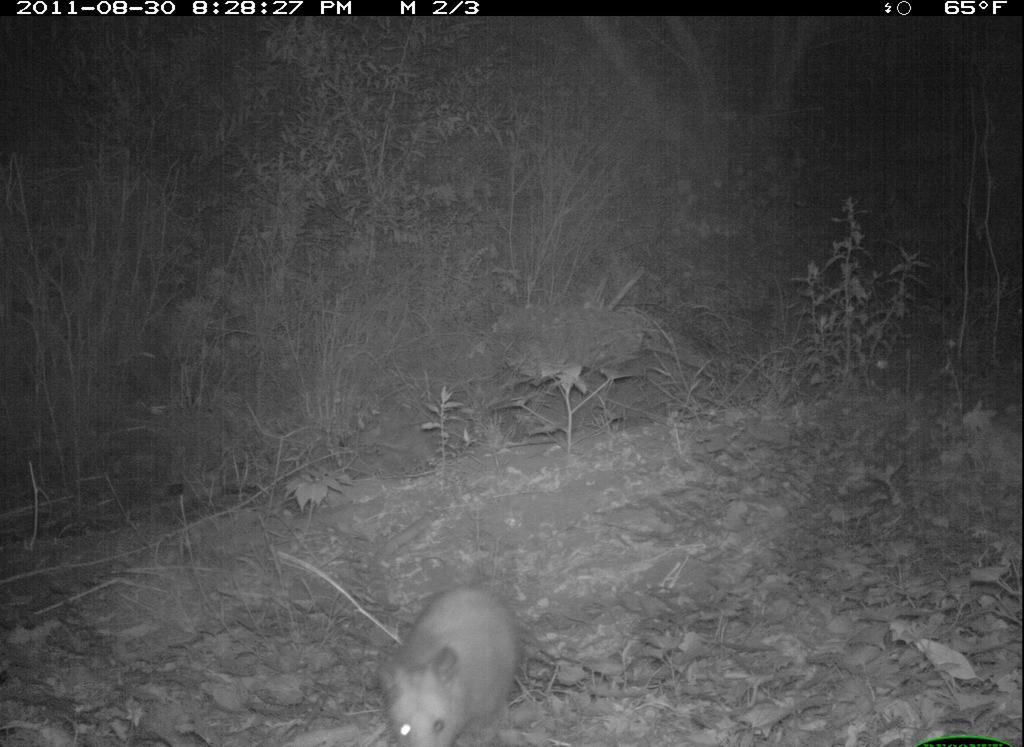opossum: (378, 570, 520, 747)
